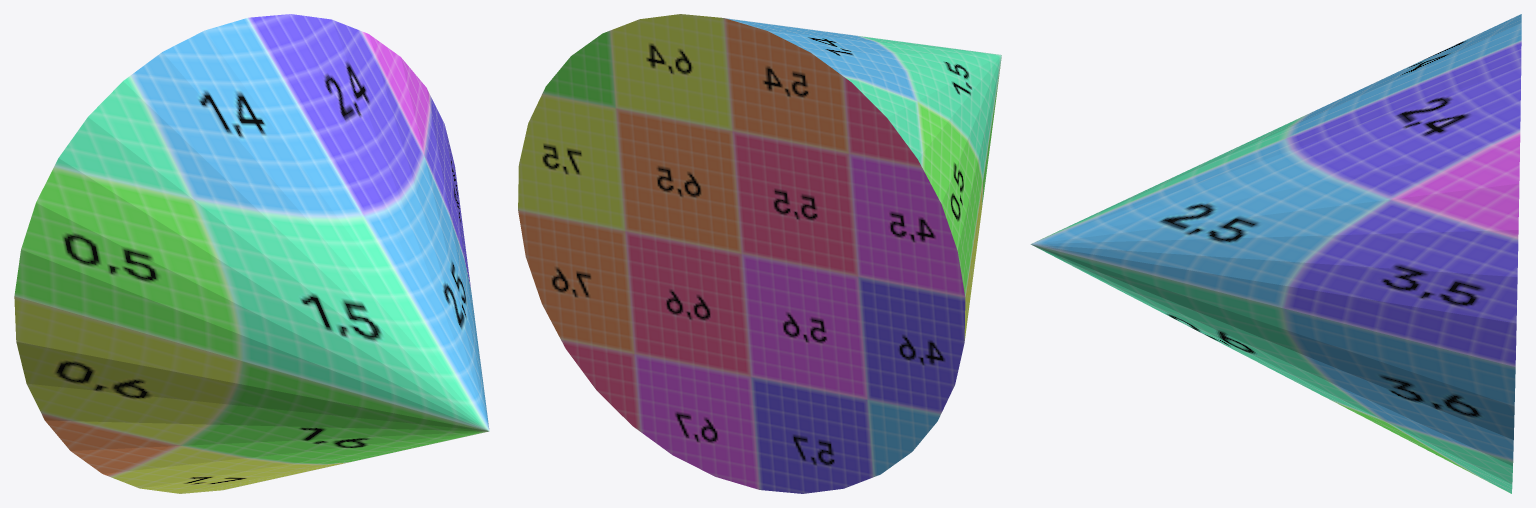
Rendered from player.obj.
The picture shows the model from 3 angles, left to right: view 1: azimuth 30°, elevation 25°; view 2: azimuth 150°, elevation 25°; view 3: azimuth 270°, elevation 25°; orthographic projection. The views are drawn at different scales.
Visible parts, largest first — view 1: 円錐; view 2: 円錐; view 3: 円錐.
Boxes of the visible parts, left/top/right/bottom form: 円錐: left=14, top=14, right=489, bottom=493; 円錐: left=518, top=14, right=1001, bottom=493; 円錐: left=1030, top=14, right=1521, bottom=493.
Size of the model in its own units: 0.999 by 0.9975 by 1.01.
